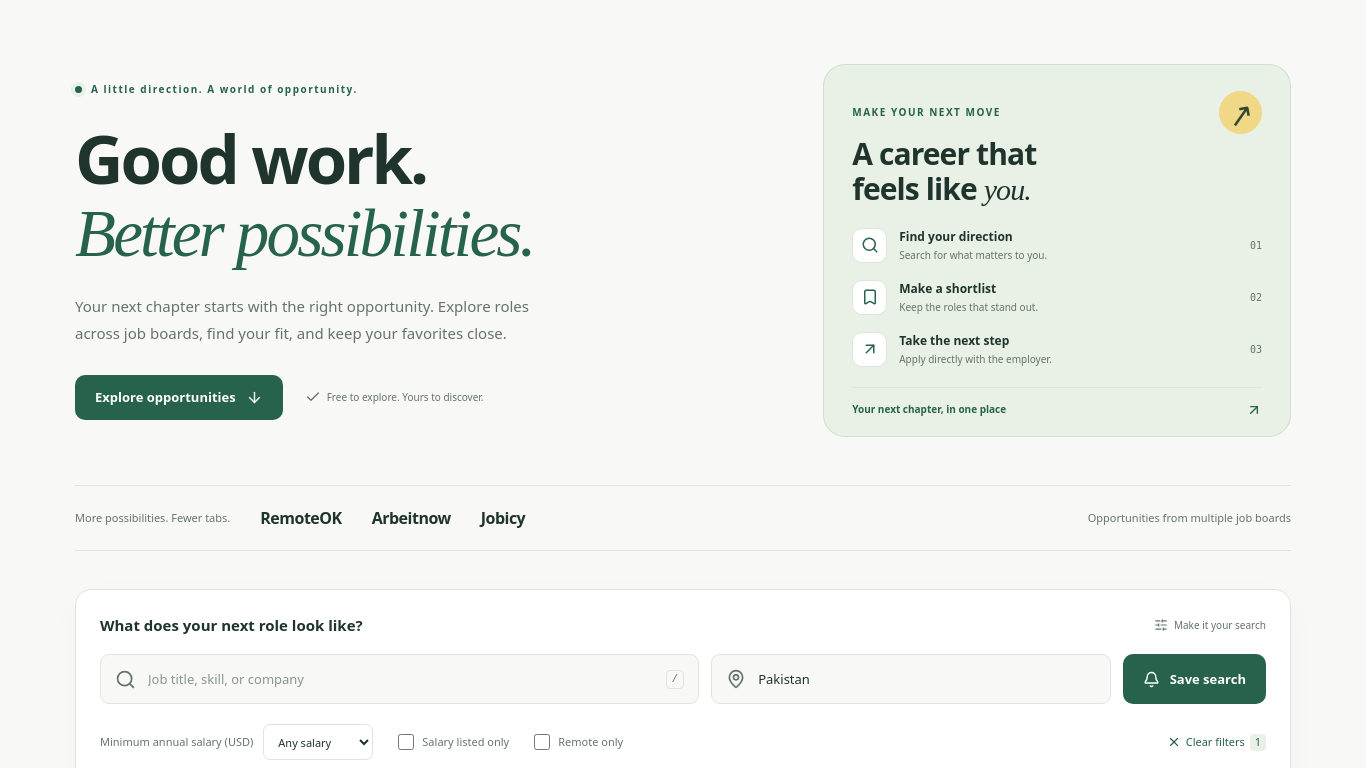
Test case: job feed › suggests matching job titles and locations while typing
Type "P" into the dropdown named "Search jobs".
click(401, 679); type("P")  # box [148,655,654,703]
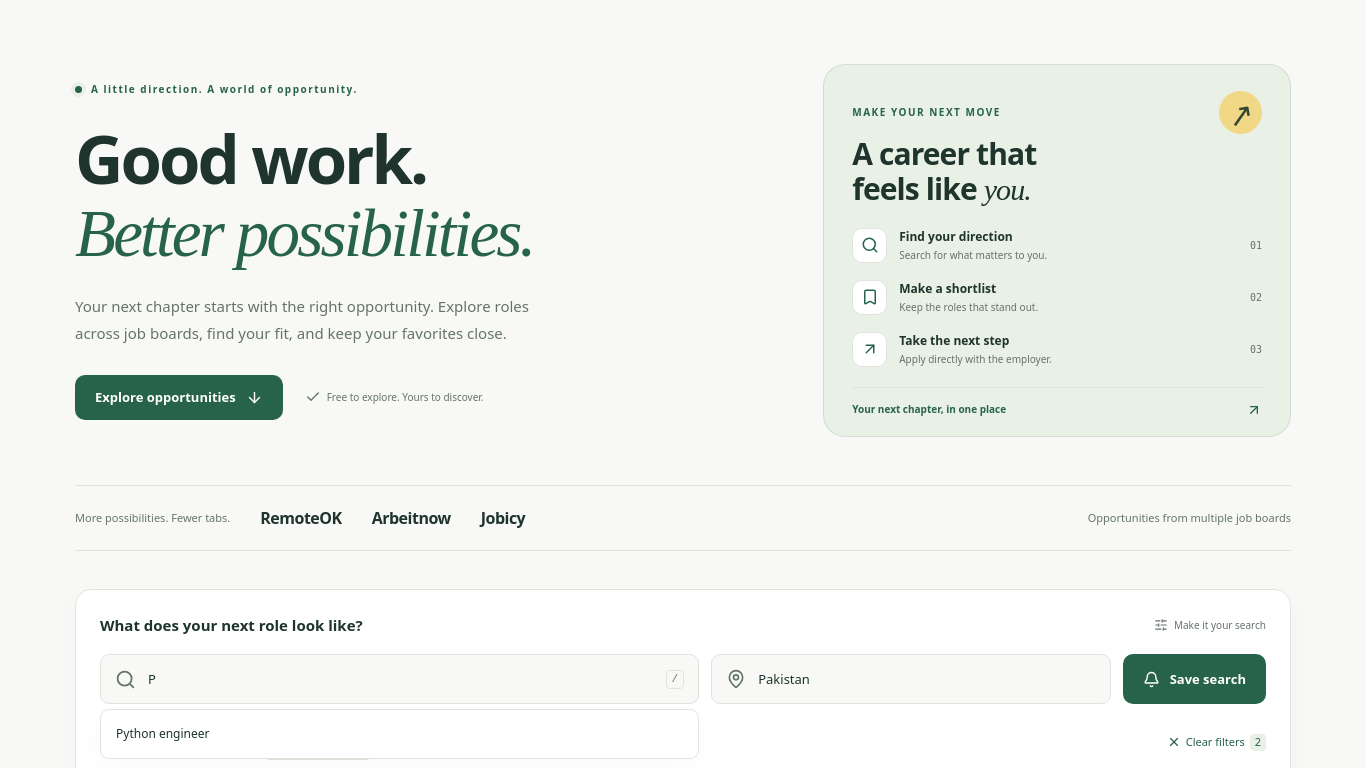
Now the option "Python engineer" is shown, box [106,715,693,753]
Press ArrowDown in the dropdown named "Search jobs", box [148,655,654,703]
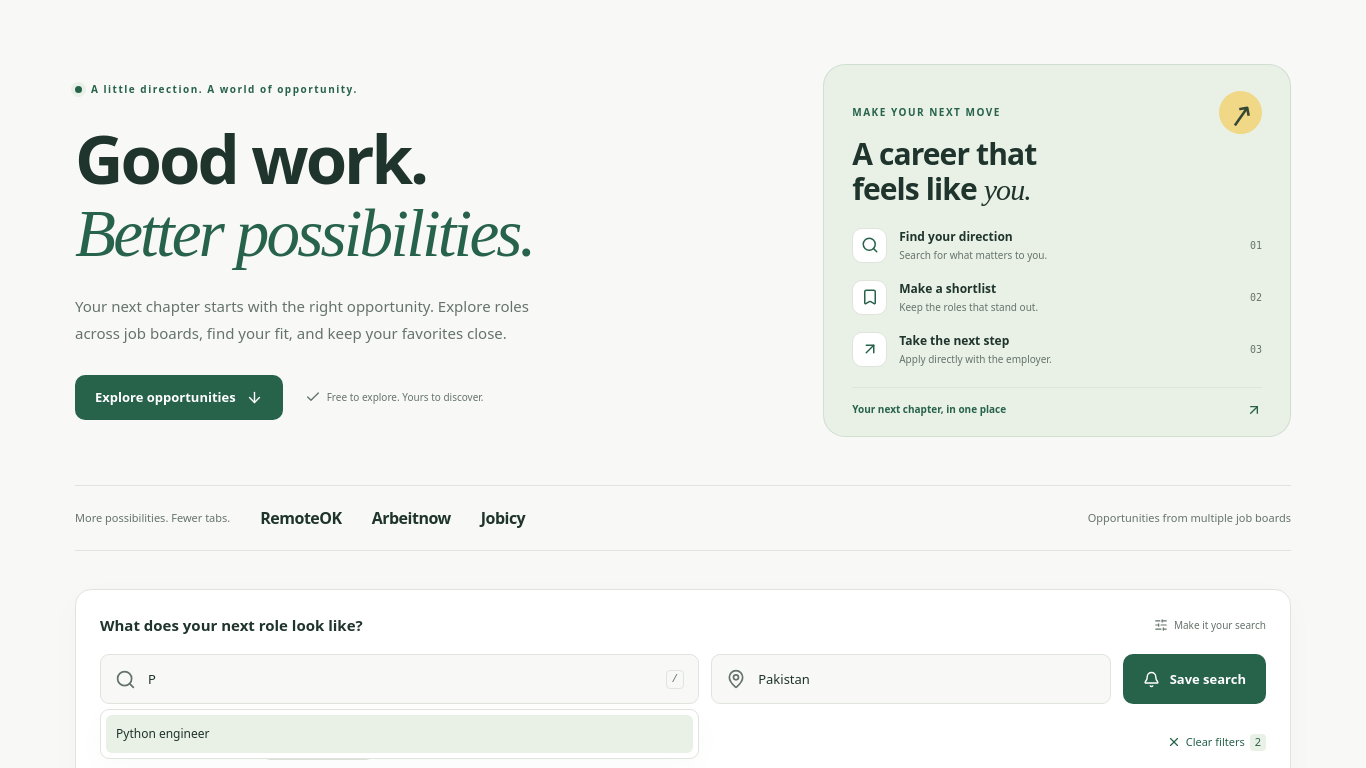
Press Enter in the dropdown named "Search jobs", box [148,655,654,703]
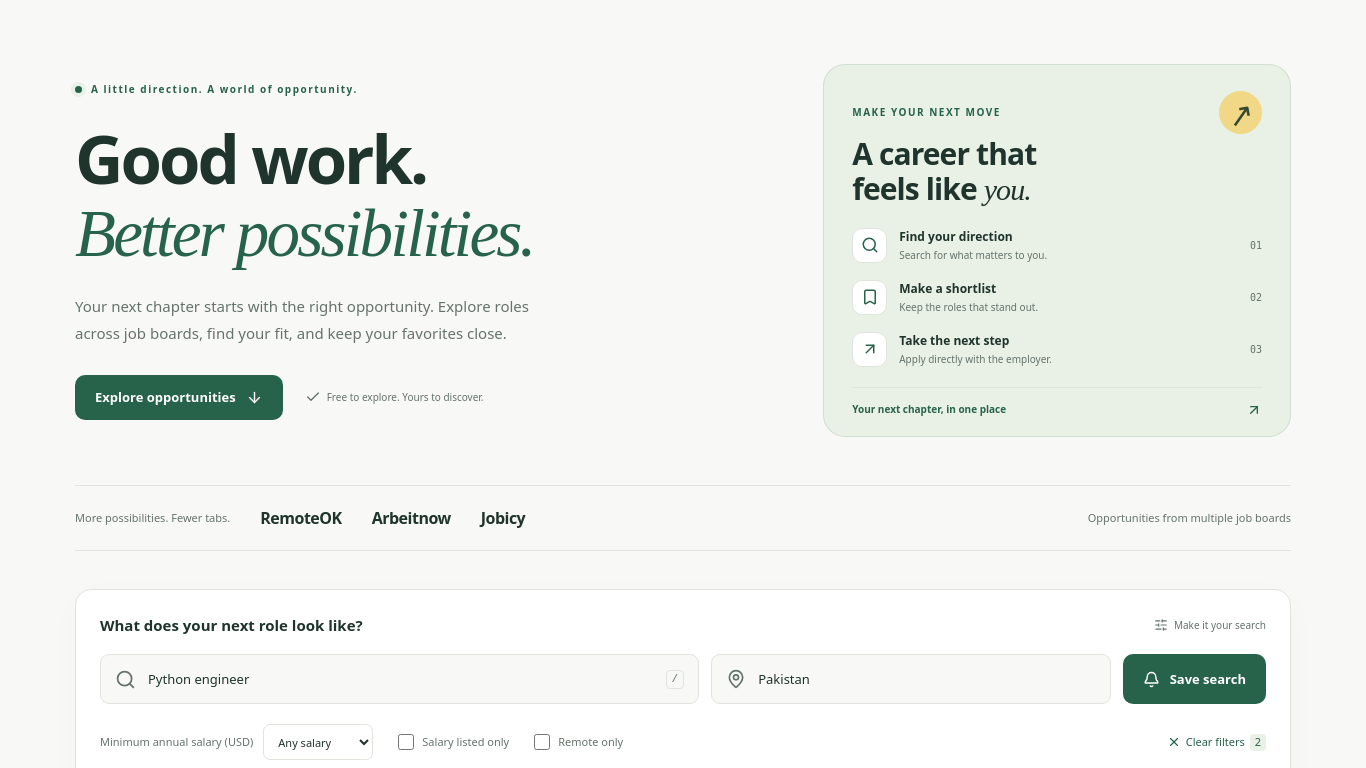
Now the dropdown named "Search jobs" holds "Python engineer", box [148,655,654,703]
Replace the text in the dropdown named "Location" with "L" at (927, 679), box [758,655,1096,703]
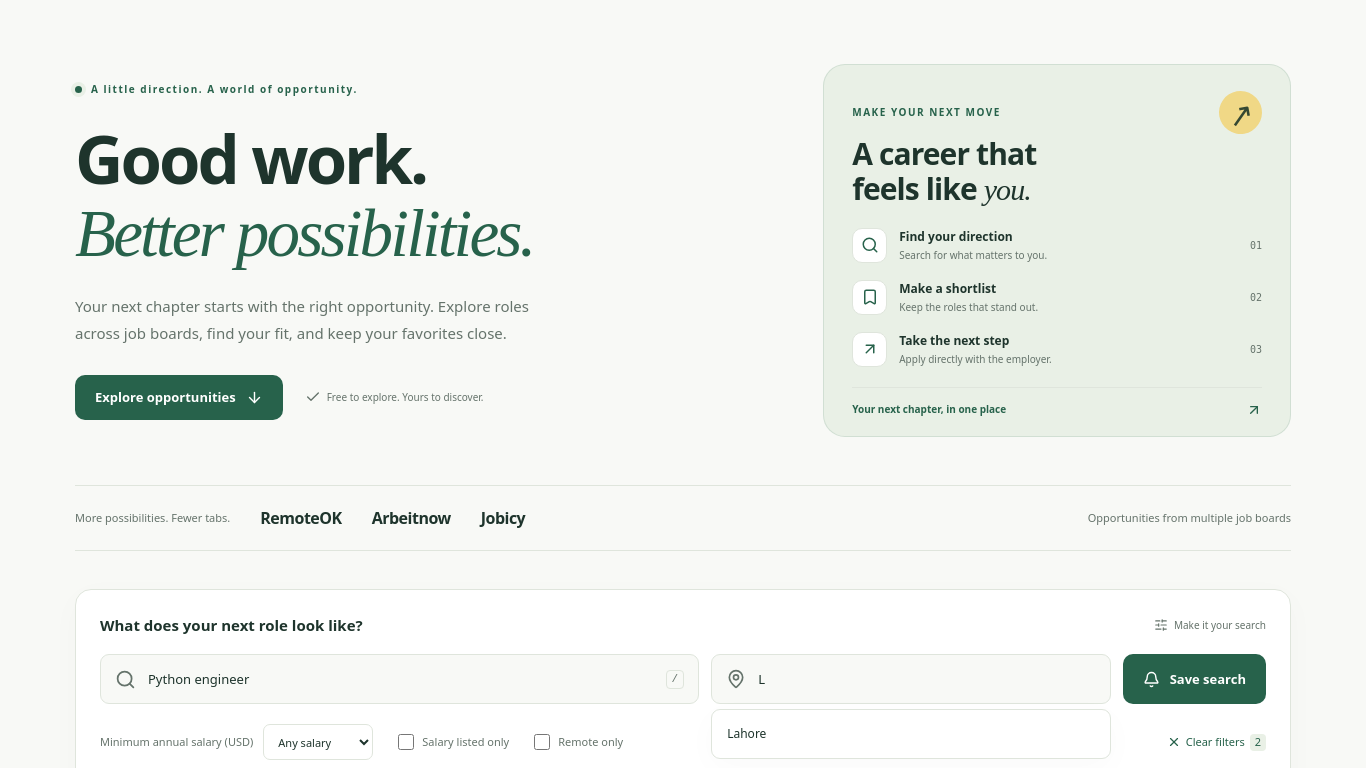
Click the option "Lahore".
click(747, 734)  # box [717,715,1105,753]
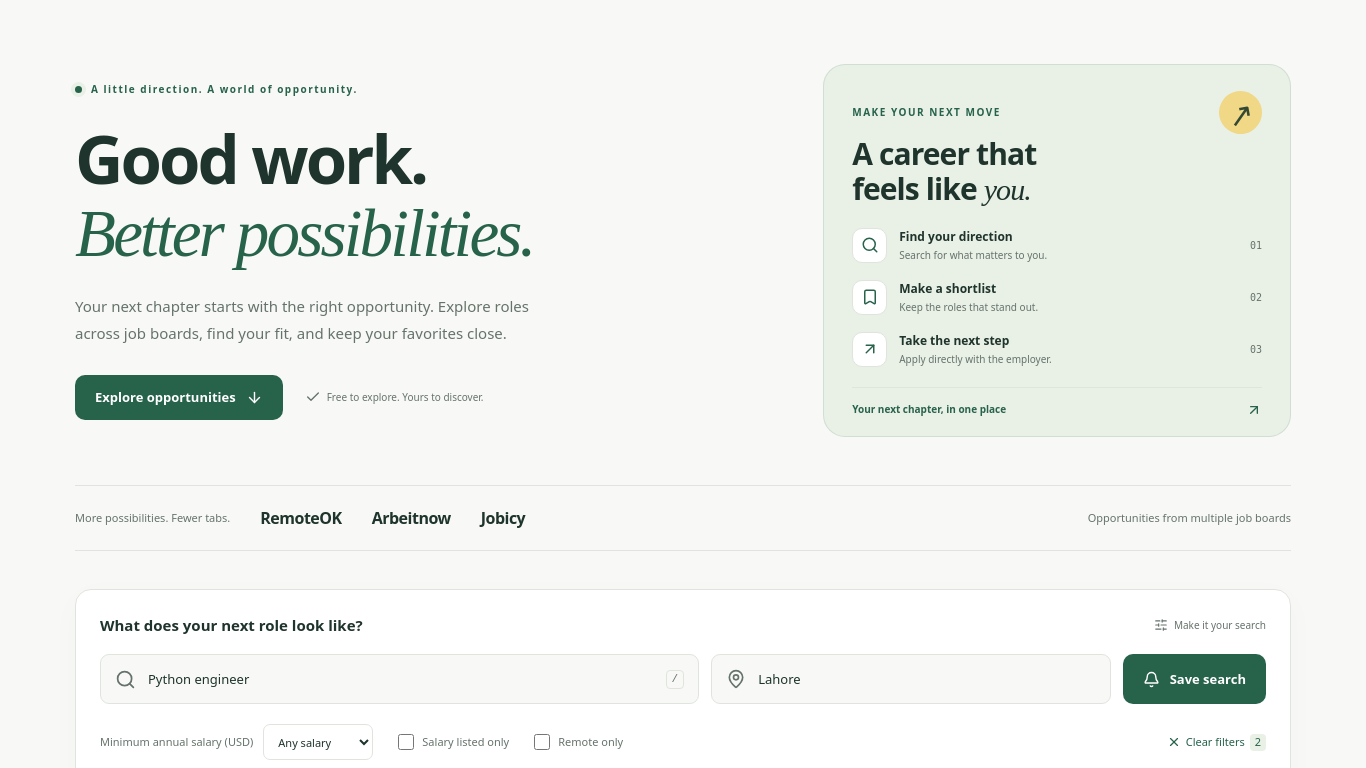
Now the dropdown named "Location" holds "Lahore", box [758,655,1096,703]
